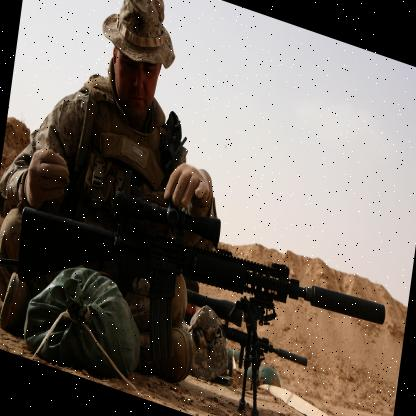rifle: (43, 92, 416, 358)
